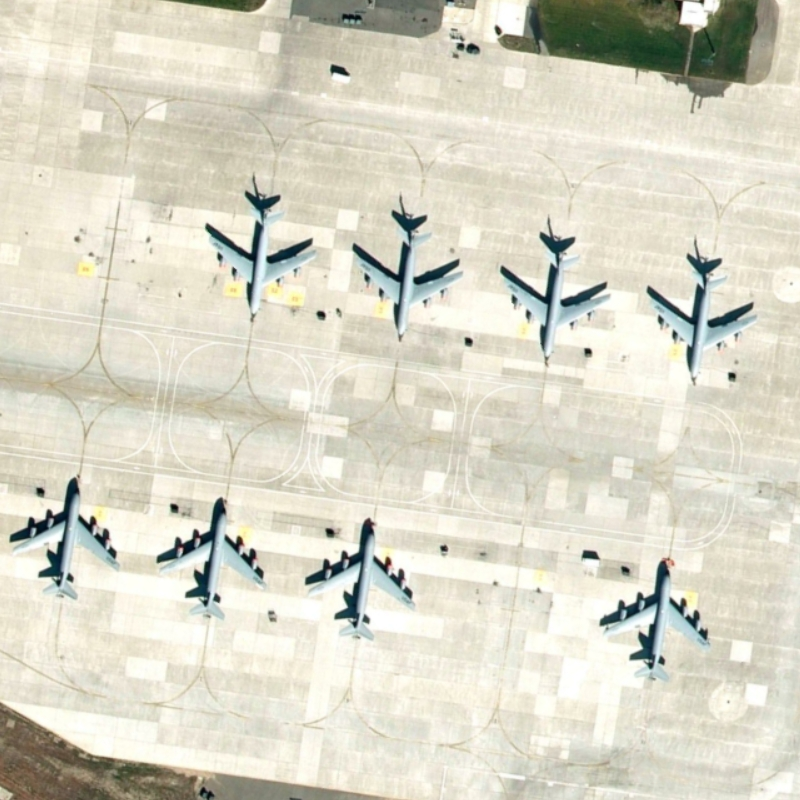A14: (198, 178, 322, 331), (293, 512, 437, 643), (344, 206, 474, 346), (640, 246, 765, 389), (499, 225, 621, 368), (591, 550, 725, 679), (149, 486, 272, 617), (9, 468, 127, 602)
